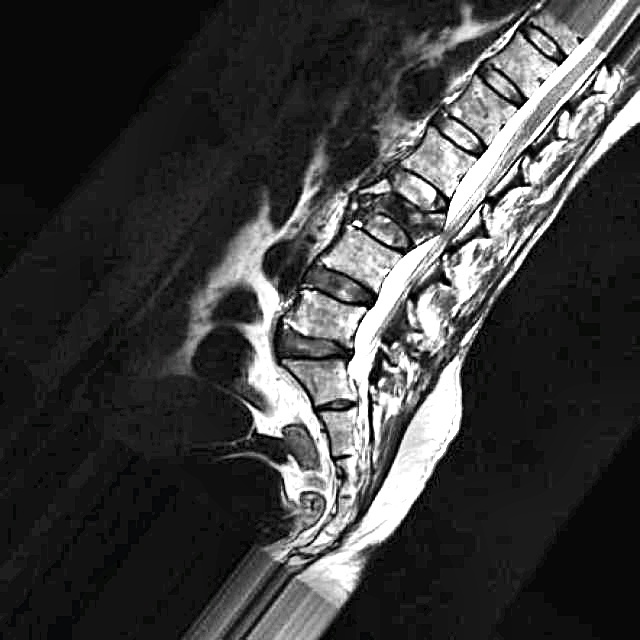Comminuted: (339, 149, 461, 254)
